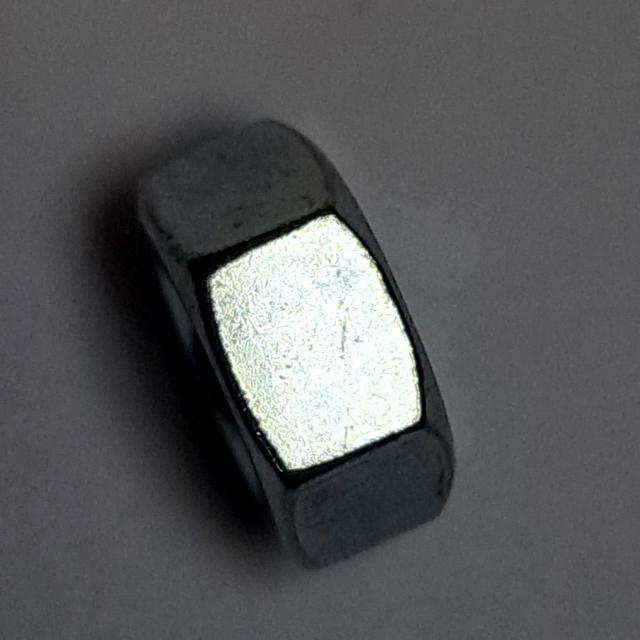Side_Excellent: (109, 98, 486, 582)
